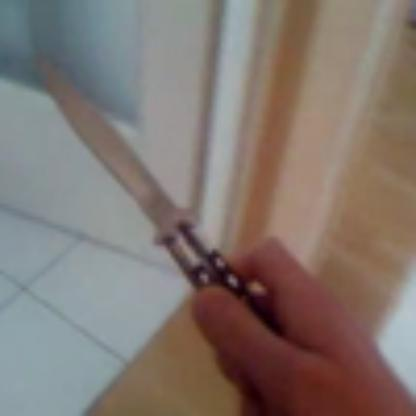knives: (21, 42, 303, 374)
